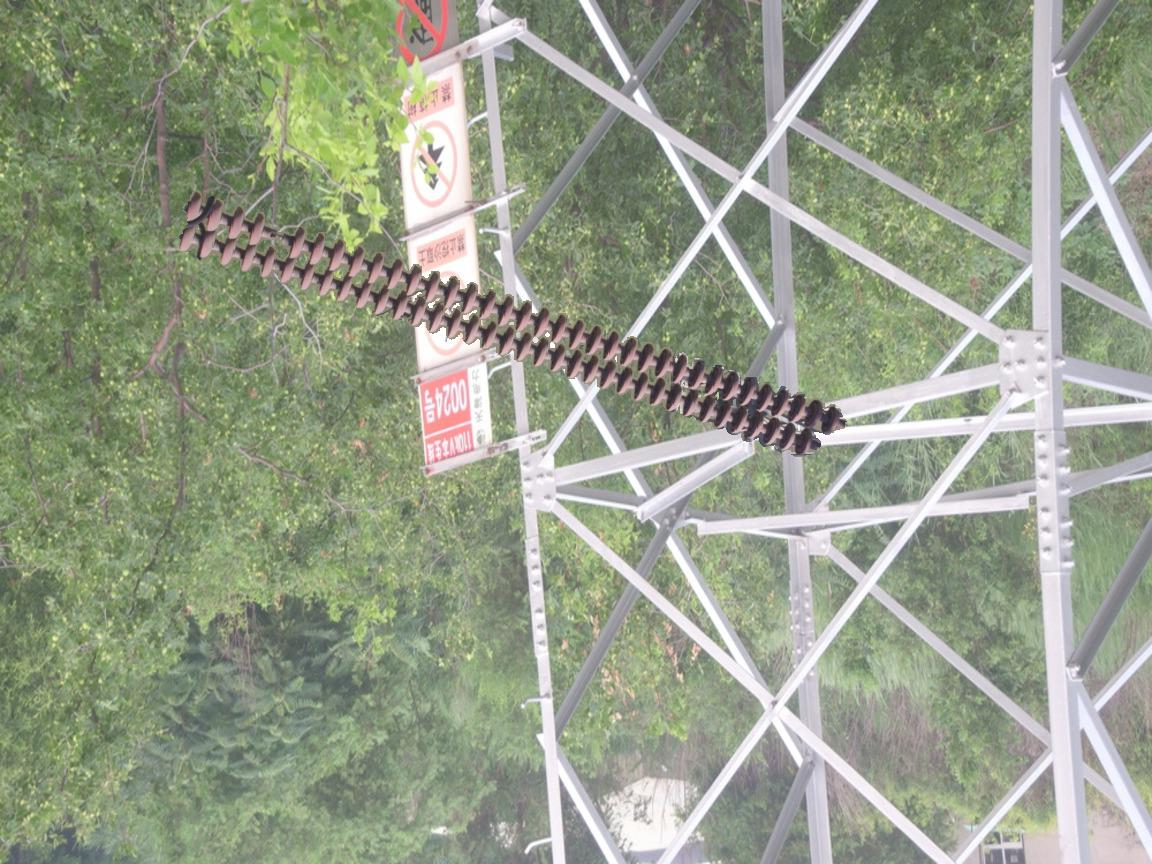insulator: (178, 190, 852, 460)
insulator_stringdrop: (242, 210, 308, 261)
